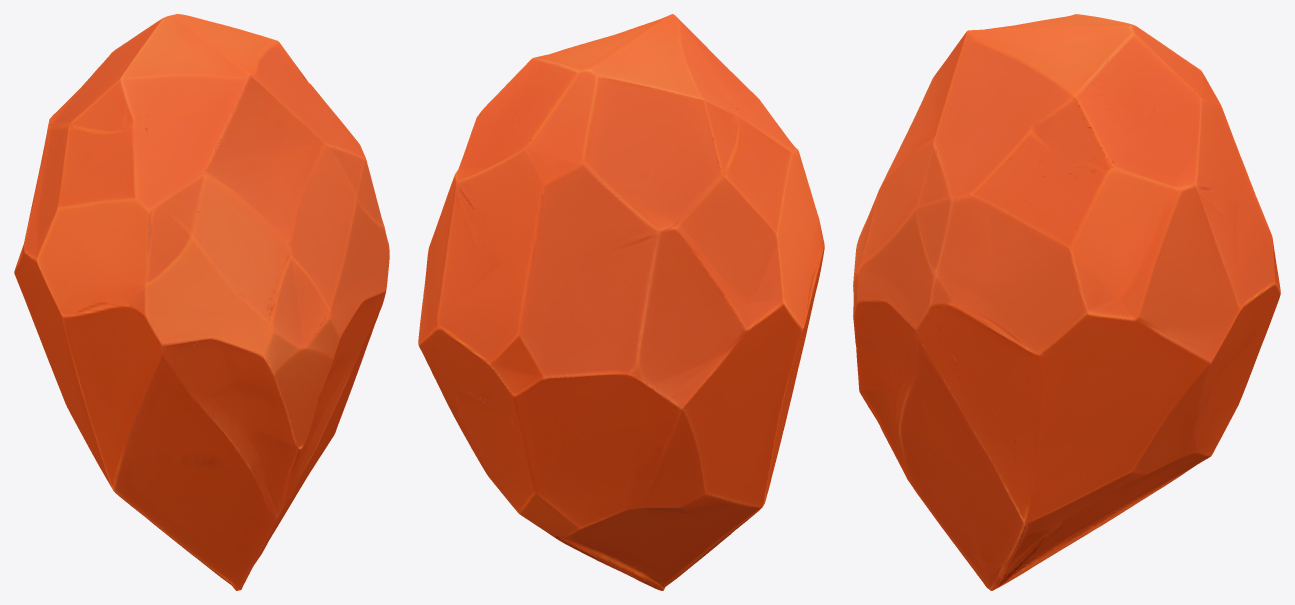
File: base_basic_shaded.fbx
3 views of the same model, side by side, from view 1: azimuth 30°, elevation 25°; view 2: azimuth 150°, elevation 25°; view 3: azimuth 270°, elevation 25° (orthographic). The views are drawn at different scales.
Visible parts, largest first — view 1: model; view 2: model; view 3: model.
Part boxes in pixels (x1,y1,x2,y2): model: [14, 14, 389, 590]; model: [418, 14, 824, 590]; model: [853, 14, 1280, 590].
Size of the model in its own units: 119 by 190 by 131.
